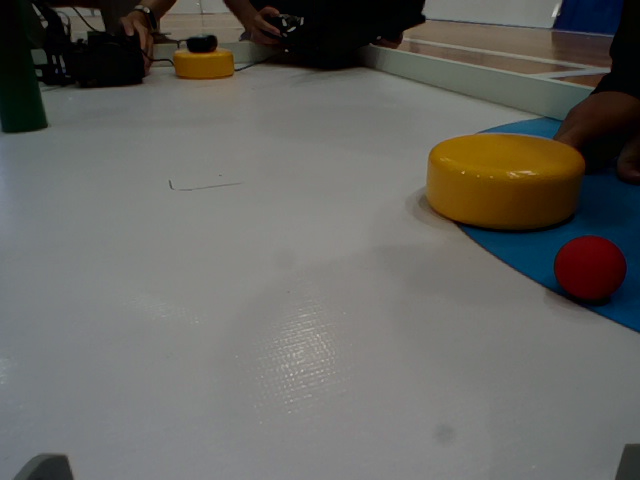black: (185, 33, 217, 54)
red: (550, 235, 629, 298)
yellow: (426, 133, 588, 231), (168, 47, 236, 79)
